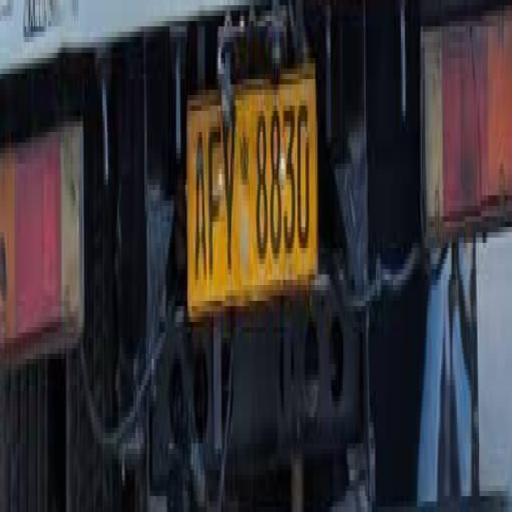number-plates: (187, 78, 316, 278)
